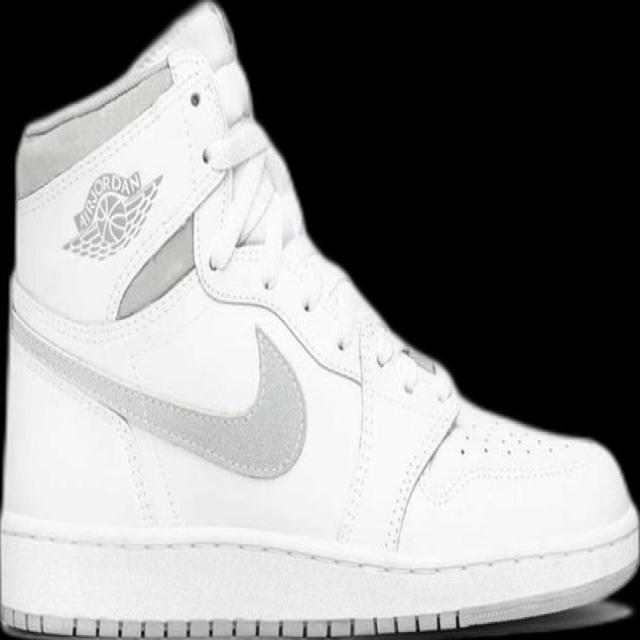J1_InsoleChar: (0, 0, 639, 639)
J1_ShoeLogo: (61, 168, 163, 261)
J1_StitchPattern: (192, 119, 461, 551), (0, 511, 639, 637), (7, 306, 308, 482), (0, 517, 639, 579), (196, 239, 445, 396), (332, 318, 460, 551), (196, 120, 304, 288), (0, 606, 464, 639), (380, 405, 461, 554), (334, 321, 379, 547), (103, 408, 181, 527)
